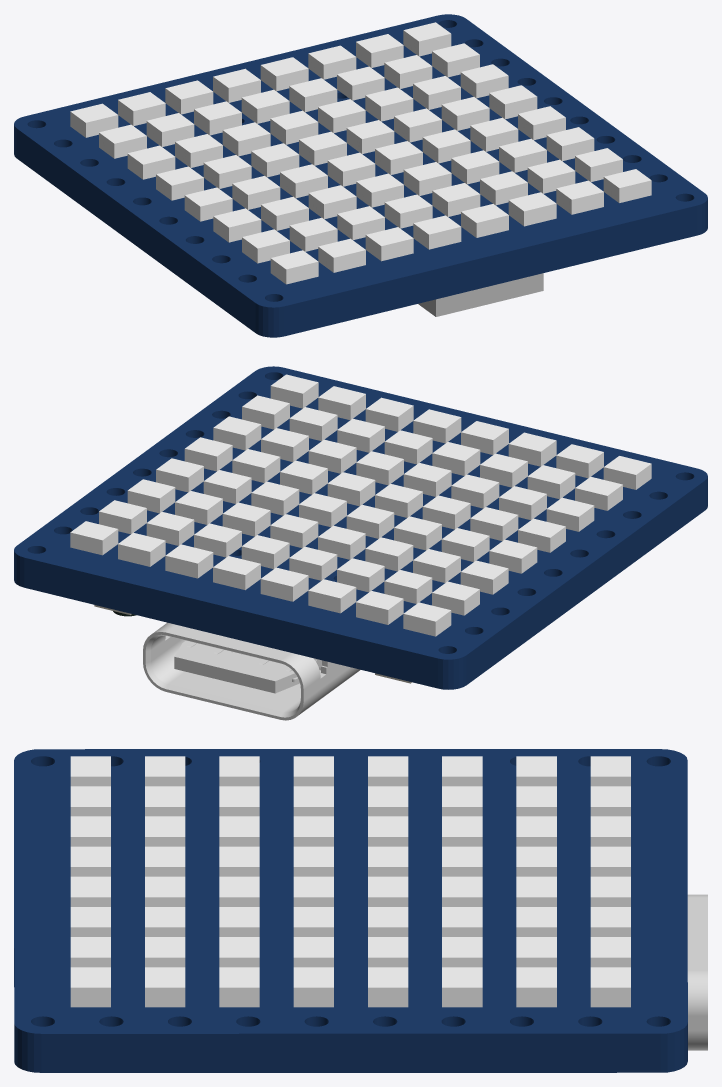
Rendered from ESP32-S3-MATRIX_ASM.gltf.
The picture shows the model from 3 angles, top to bottom: view 1: azimuth 30°, elevation 25°; view 2: azimuth 150°, elevation 25°; view 3: azimuth 270°, elevation 25°; orthographic projection. The views are drawn at different scales.
Visible parts, largest first — view 1: BOARD, C3, EXTRUDED-13553, EXTRUDED-13555, EXTRUDED-13556, EXTRUDED-13558, EXTRUDED-13560, EXTRUDED-13554, EXTRUDED-13559, EXTRUDED-13557, EXTRUDED-13577, EXTRUDED-13562 (+54 smaller); view 2: BOARD, TYPE-C_SMT-9X3X7_3, EXTRUDED-13609, EXTRUDED-13614, EXTRUDED-13611, EXTRUDED-13612, EXTRUDED-13616, EXTRUDED-13615, EXTRUDED-13613, EXTRUDED-13610, EXTRUDED-13571, EXTRUDED-13576 (+54 smaller); view 3: BOARD, TYPE-C_SMT-9X3X7_3, EXTRUDED-13576, EXTRUDED-13600, EXTRUDED-13608, EXTRUDED-13560, EXTRUDED-13568, EXTRUDED-13584, EXTRUDED-13592, EXTRUDED-13616, EXTRUDED-13555, EXTRUDED-13563 (+54 smaller).
Part boxes in pixels (x1=…): BOARD: x1=14, y1=14, x2=707, y2=337; C3: x1=418, y1=273, x2=543, y2=316; EXTRUDED-13553: x1=270, y1=250, x2=318, y2=284; EXTRUDED-13555: x1=365, y1=227, x2=413, y2=261; EXTRUDED-13556: x1=413, y1=215, x2=461, y2=249; EXTRUDED-13558: x1=508, y1=192, x2=556, y2=226; EXTRUDED-13560: x1=603, y1=169, x2=651, y2=202; EXTRUDED-13554: x1=318, y1=238, x2=365, y2=272; EXTRUDED-13559: x1=556, y1=180, x2=603, y2=214; EXTRUDED-13557: x1=461, y1=204, x2=508, y2=237; EXTRUDED-13577: x1=184, y1=187, x2=232, y2=221; EXTRUDED-13562: x1=289, y1=217, x2=337, y2=251; BOARD: x1=14, y1=366, x2=707, y2=689; TYPE-C_SMT-9X3X7_3: x1=143, y1=622, x2=360, y2=720; EXTRUDED-13609: x1=403, y1=602, x2=451, y2=636; EXTRUDED-13614: x1=165, y1=544, x2=213, y2=578; EXTRUDED-13611: x1=308, y1=579, x2=356, y2=613; EXTRUDED-13612: x1=260, y1=567, x2=308, y2=601; EXTRUDED-13616: x1=70, y1=521, x2=118, y2=555; EXTRUDED-13615: x1=118, y1=532, x2=165, y2=566; EXTRUDED-13613: x1=213, y1=556, x2=260, y2=590; EXTRUDED-13610: x1=356, y1=591, x2=403, y2=624; EXTRUDED-13571: x1=451, y1=474, x2=499, y2=508; EXTRUDED-13576: x1=213, y1=416, x2=261, y2=450; BOARD: x1=14, y1=749, x2=687, y2=1072; TYPE-C_SMT-9X3X7_3: x1=687, y1=894, x2=707, y2=1050; EXTRUDED-13576: x1=219, y1=967, x2=259, y2=1007; EXTRUDED-13600: x1=442, y1=967, x2=482, y2=1007; EXTRUDED-13608: x1=516, y1=967, x2=556, y2=1007; EXTRUDED-13560: x1=70, y1=967, x2=110, y2=1007; EXTRUDED-13568: x1=145, y1=967, x2=185, y2=1007; EXTRUDED-13584: x1=293, y1=967, x2=333, y2=1007; EXTRUDED-13592: x1=368, y1=967, x2=408, y2=1007; EXTRUDED-13616: x1=590, y1=967, x2=630, y2=1007; EXTRUDED-13555: x1=70, y1=816, x2=110, y2=846; EXTRUDED-13563: x1=145, y1=816, x2=185, y2=846.
Size of the model in its own units: 0.025 by 0.0057 by 0.0258.
